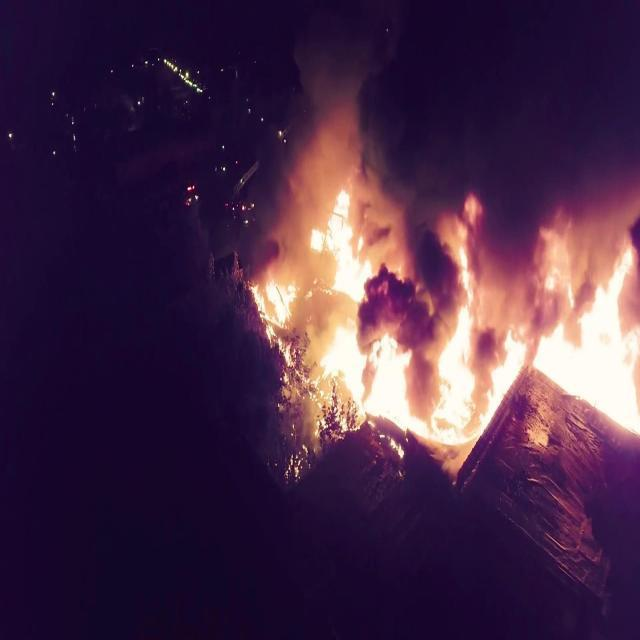Fire: (235, 192, 634, 471), (238, 158, 411, 452)
